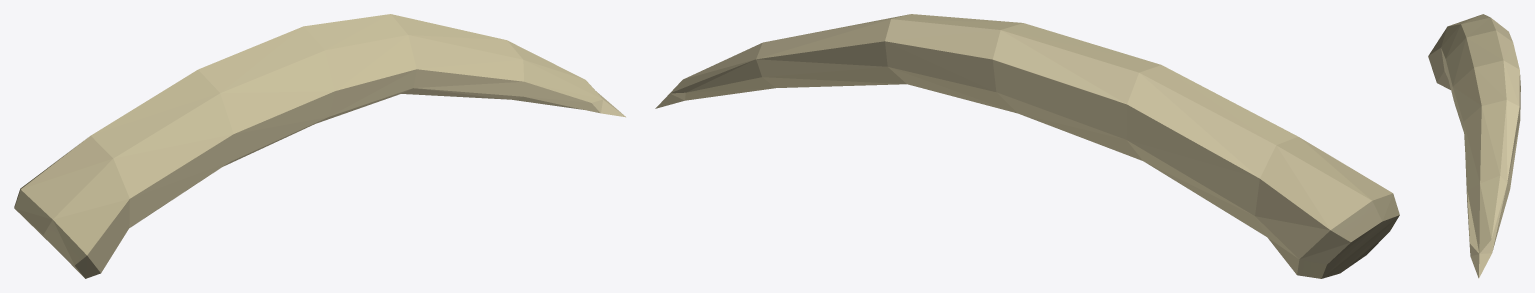
Rendered from miscNoseBone.glb.
3 renders of one model, left to right at view 1: azimuth 30°, elevation 25°; view 2: azimuth 150°, elevation 25°; view 3: azimuth 270°, elevation 25°, orthographic. The views are drawn at different scales.
Parts seen in each view (by area): view 1: miscNoseBone; view 2: miscNoseBone; view 3: miscNoseBone.
Boxes of the visible parts, x1,y1,x2,y2 form: miscNoseBone: [14, 14, 625, 278]; miscNoseBone: [655, 14, 1399, 278]; miscNoseBone: [1428, 14, 1520, 278].
Size of the model in its own units: 0.0709 by 0.0183 by 0.0129.
